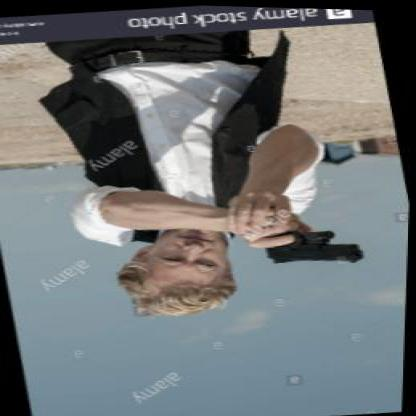pistol: (257, 223, 369, 272)
